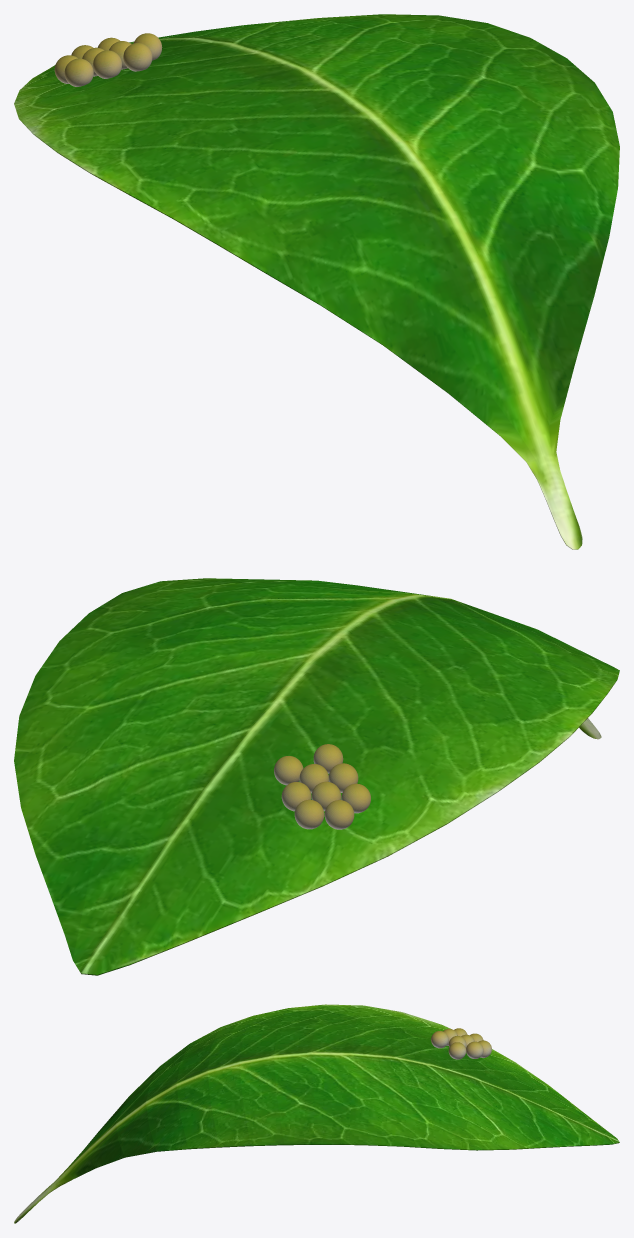
File: Papilio Memnon Egg.fbx
3 renders of one model, top to bottom at view 1: azimuth 30°, elevation 25°; view 2: azimuth 150°, elevation 25°; view 3: azimuth 270°, elevation 25°, orthographic. The views are drawn at different scales.
Visible parts, largest first — view 1: Plane; view 2: Plane, Sphere.004, Sphere.006, Sphere.008, Sphere.002, Sphere.003, Sphere.001, Sphere.007, Sphere, Sphere.005; view 3: Plane.
Boxes of the visible parts, x1,y1,x2,y2 form: Plane: (14, 14, 619, 549); Plane: (14, 578, 619, 975); Sphere.004: (294, 799, 324, 829); Sphere.006: (324, 800, 354, 829); Sphere.008: (274, 756, 303, 785); Sphere.002: (341, 783, 370, 813); Sphere.003: (281, 782, 311, 811); Sphere.001: (328, 763, 358, 792); Sphere.007: (313, 744, 343, 773); Sphere: (311, 781, 341, 811); Sphere.005: (299, 764, 328, 793); Plane: (14, 1004, 619, 1223).
Bounding box in the file's own units: 433 × 787 × 245.
